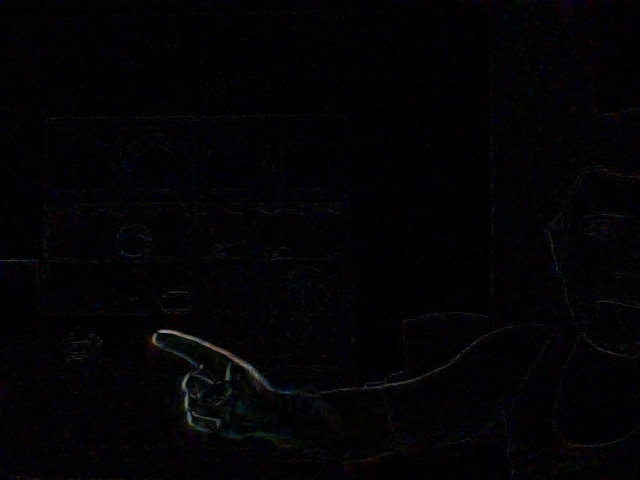hand_po: (141, 313, 279, 455)
